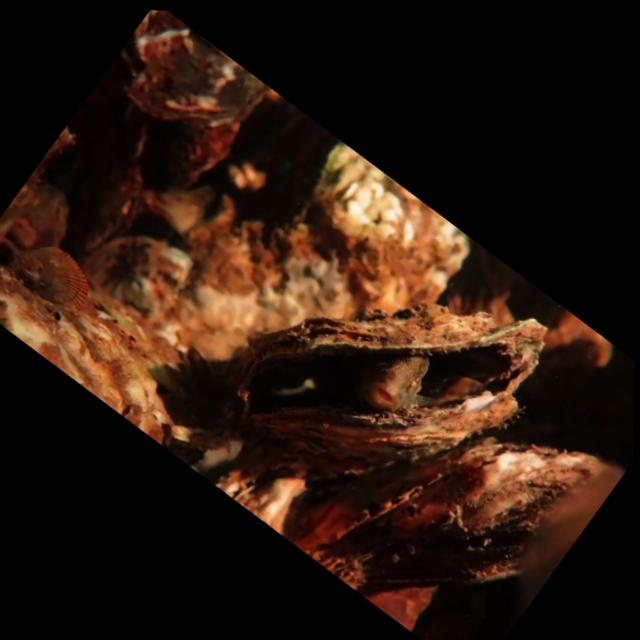Oyster-Closed: (314, 431, 624, 600)
Oyster-Indeterminate: (256, 142, 471, 329), (31, 37, 155, 256), (123, 10, 273, 130)
Oyster-Open: (219, 306, 544, 465)
